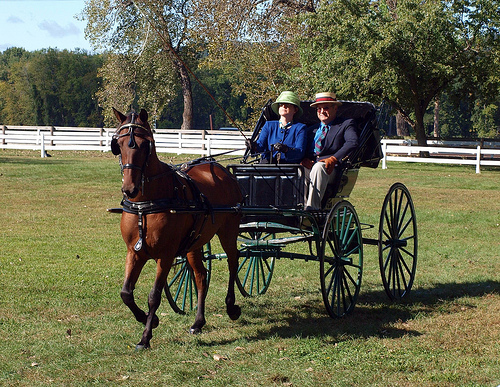horse: (110, 107, 245, 347)
